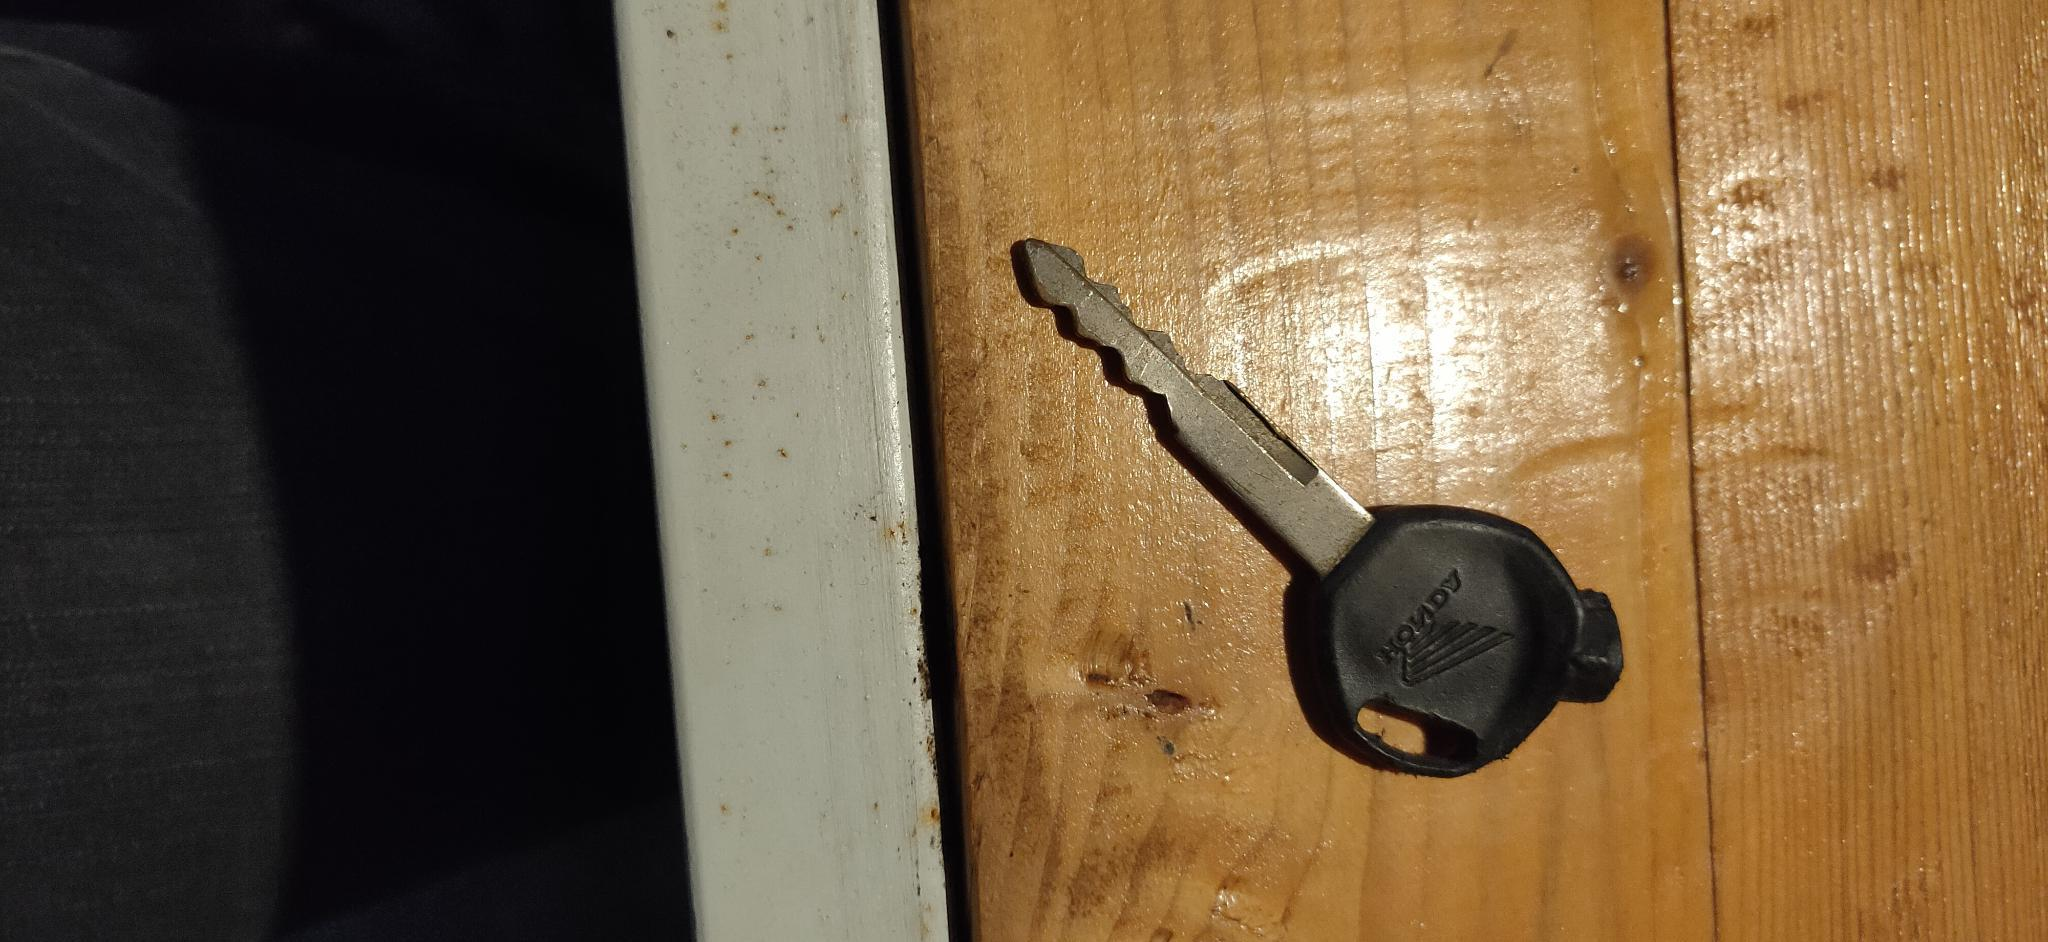keys: (1010, 223, 1631, 788)
